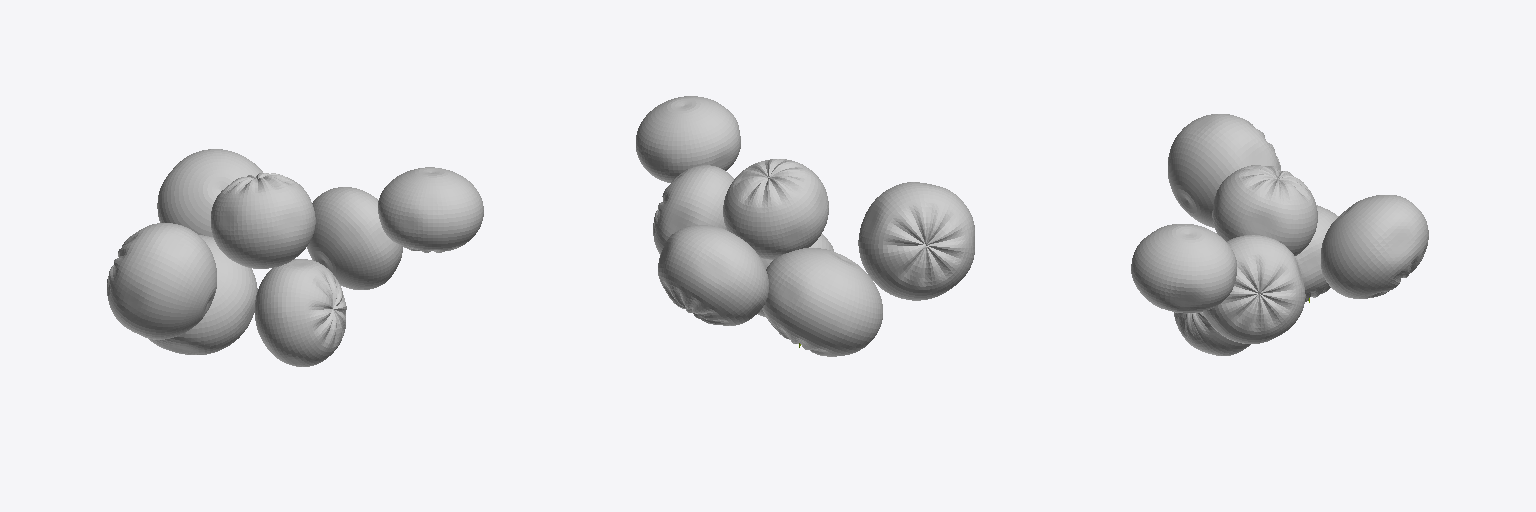
The model's file is oranges.obj.
3 renders of one model, left to right at view 1: azimuth 30°, elevation 25°; view 2: azimuth 150°, elevation 25°; view 3: azimuth 270°, elevation 25°, orthographic.
Parts seen in each view (by area): view 1: orange.003_Sphere.007, orange.004_Sphere.010, orange.005_Sphere.012, orange.006_Sphere.013, orange.002_Sphere.006, orange.001_Sphere.004, orange_Sphere.001; view 2: orange.003_Sphere.007, orange_Sphere.001, orange.001_Sphere.004, orange.004_Sphere.010, orange.006_Sphere.013, orange.002_Sphere.006; view 3: orange.001_Sphere.004, orange.006_Sphere.013, orange.002_Sphere.006, orange.003_Sphere.007, orange.004_Sphere.010, orange.005_Sphere.012, orange_Sphere.001.
Part boxes in pixels (x1,y1,x2,y2): orange.003_Sphere.007: (107,223,216,339); orange.004_Sphere.010: (211,173,315,268); orange.005_Sphere.012: (255,259,346,366); orange.006_Sphere.013: (378,167,483,252); orange.002_Sphere.006: (307,187,402,289); orange.001_Sphere.004: (157,149,262,236); orange_Sphere.001: (148,235,257,354); orange.003_Sphere.007: (858,182,974,300); orange_Sphere.001: (762,248,882,356); orange.001_Sphere.004: (658,225,768,325); orange.004_Sphere.010: (723,159,828,259); orange.006_Sphere.013: (636,96,740,182); orange.002_Sphere.006: (653,165,733,254); orange.001_Sphere.004: (1321,195,1428,298); orange.006_Sphere.013: (1131,224,1236,312); orange.002_Sphere.006: (1203,235,1305,343); orange.003_Sphere.007: (1168,114,1280,227); orange.004_Sphere.010: (1212,165,1317,255); orange.005_Sphere.012: (1174,312,1250,355); orange_Sphere.001: (1295,205,1338,301).
Size of the model in its own units: 2.25 by 1.09 by 1.68.